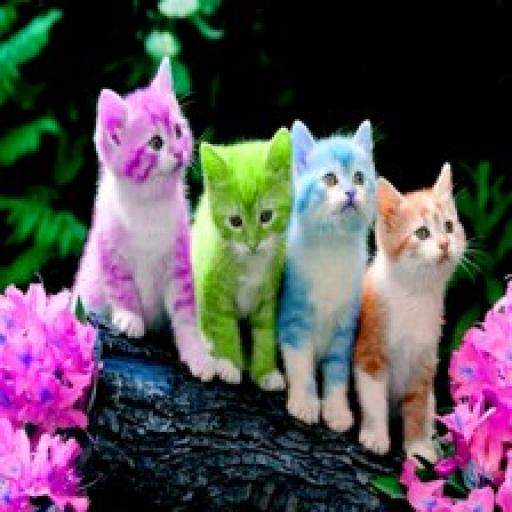cat: (80, 48, 210, 348), (364, 156, 472, 454), (288, 116, 378, 421), (198, 120, 291, 388)
